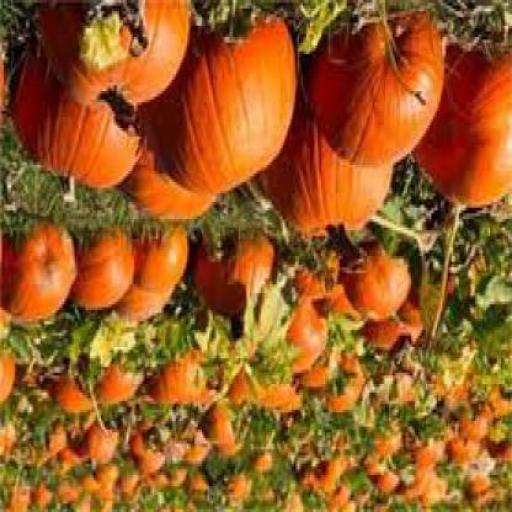biodegradable: (144, 15, 294, 202), (301, 14, 444, 174), (36, 3, 189, 140), (10, 49, 144, 205), (264, 100, 390, 264), (409, 43, 510, 211), (125, 134, 211, 224), (191, 239, 275, 327), (0, 231, 74, 327), (68, 233, 132, 316), (342, 250, 409, 324), (143, 350, 200, 416), (354, 302, 418, 358), (123, 415, 172, 487), (282, 301, 327, 378), (396, 276, 456, 333), (132, 233, 183, 296), (317, 359, 364, 418), (192, 407, 239, 463), (88, 360, 140, 410), (394, 444, 433, 506), (292, 256, 340, 304), (75, 415, 115, 472), (44, 376, 92, 418), (294, 461, 342, 503), (75, 469, 123, 509), (116, 285, 165, 324), (222, 367, 257, 416), (372, 373, 413, 412), (257, 384, 301, 418), (40, 422, 72, 464), (318, 290, 350, 330), (119, 464, 149, 503), (0, 352, 21, 407), (49, 480, 86, 511), (458, 412, 490, 447), (446, 438, 481, 470), (302, 358, 334, 393), (415, 480, 447, 511), (462, 484, 498, 510), (358, 452, 387, 484), (178, 438, 207, 470), (145, 475, 184, 495), (1, 484, 30, 510), (249, 449, 274, 478), (0, 62, 10, 134), (53, 450, 85, 472), (187, 469, 209, 501), (483, 444, 510, 470), (486, 393, 511, 421), (227, 475, 252, 503), (31, 486, 59, 511), (332, 438, 351, 470), (323, 486, 347, 511), (370, 475, 396, 497), (370, 438, 396, 460), (198, 381, 218, 407), (0, 430, 14, 464)
